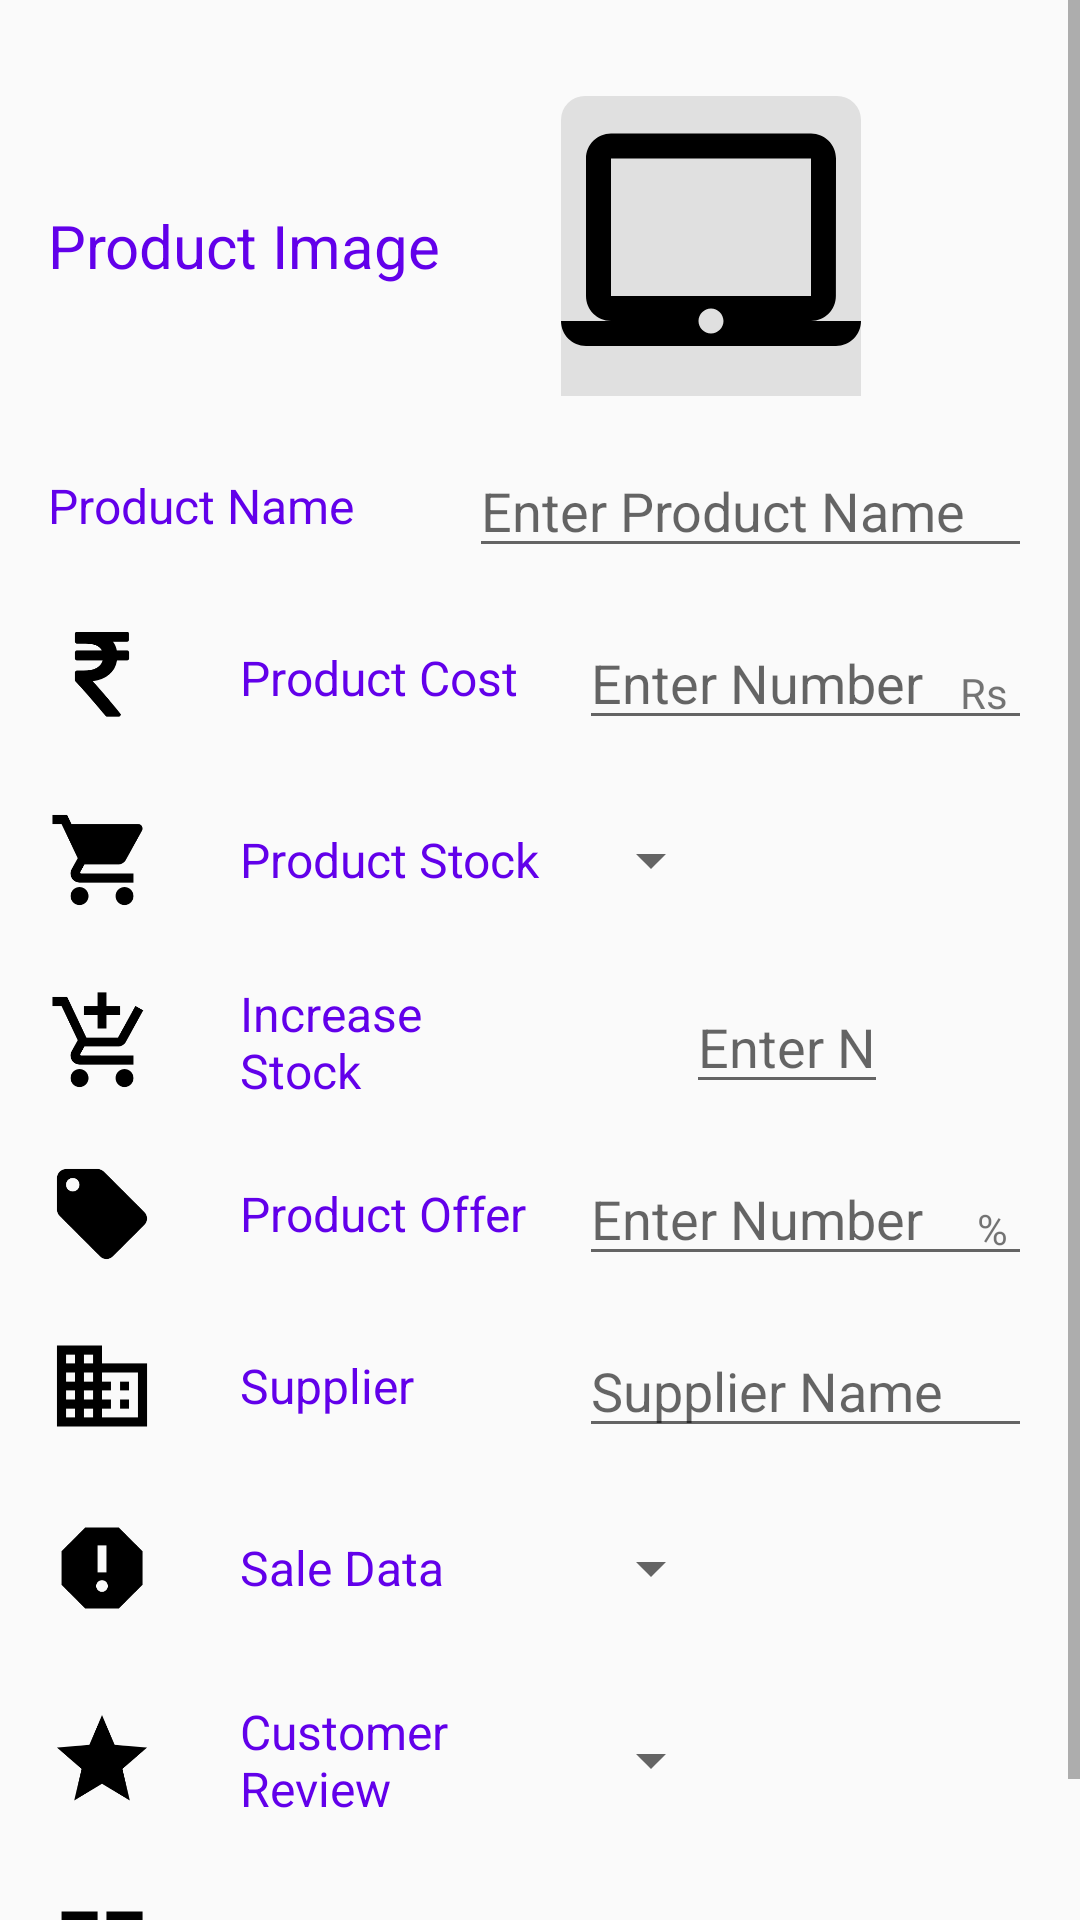

Named icons in this screenshot (1080 x 1920) and their bounding boxes, region(x1, y1, x2, y2):
add shopping cart: region(52, 992, 144, 1087)
local offer: region(57, 1169, 147, 1259)
rupee: region(75, 632, 129, 717)
